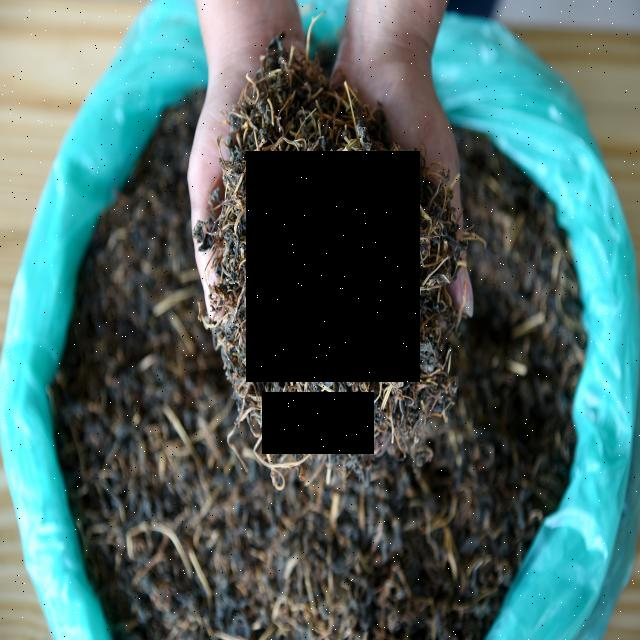Gundruk: (246, 151, 420, 382), (262, 392, 374, 454)
